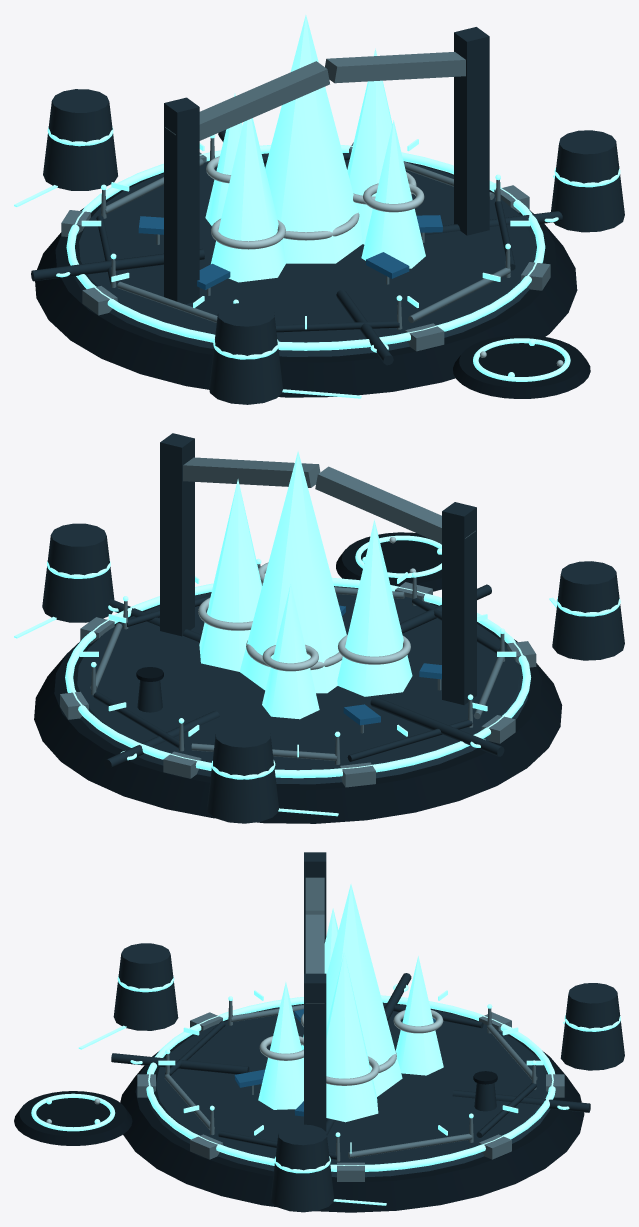
Rendered from crystalMine-stage2.glb.
3 renders of one model, top to bottom at view 1: azimuth 30°, elevation 25°; view 2: azimuth 150°, elevation 25°; view 3: azimuth 270°, elevation 25°, orthographic. The views are drawn at different scales.
Visible parts, largest first — view 1: upper-deck, armored-foundation, gantry-tower (×2), crystal-spire-0, gantry-arm (×2), crystal-spire-1, refinery-annex-2, refinery-annex-1, refinery-annex-0, landing-pad, perimeter-light, crystal-spire-4 (+18 smaller); view 2: upper-deck, armored-foundation, gantry-tower (×2), crystal-spire-0, crystal-spire-1, gantry-arm (×2), crystal-spire-2, refinery-annex-1, refinery-annex-2, refinery-annex-0, perimeter-light, crystal-spire-3 (+17 smaller); view 3: upper-deck, armored-foundation, crystal-spire-0, crystal-spire-2, perimeter-light, refinery-annex-1, refinery-annex-2, refinery-annex-0, gantry-tower (×2), landing-pad, crystal-spire-4, crystal-spire-3 (+12 smaller).
Boxes of the visible parts, x1=… form: upper-deck: x1=69, y1=153, x2=543, y2=356; armored-foundation: x1=35, y1=153, x2=577, y2=397; gantry-tower (×2): x1=164, y1=27, x2=489, y2=304; crystal-spire-0: x1=265, y1=15, x2=362, y2=263; gantry-arm (×2): x1=165, y1=52, x2=465, y2=140; crystal-spire-1: x1=211, y1=118, x2=285, y2=282; refinery-annex-2: x1=43, y1=89, x2=117, y2=190; refinery-annex-1: x1=209, y1=302, x2=282, y2=404; refinery-annex-0: x1=551, y1=130, x2=624, y2=232; landing-pad: x1=453, y1=335, x2=590, y2=398; perimeter-light: x1=66, y1=145, x2=545, y2=350; crystal-spire-4: x1=361, y1=120, x2=425, y2=268; upper-deck: x1=67, y1=586, x2=527, y2=784; armored-foundation: x1=34, y1=586, x2=562, y2=823; gantry-tower (×2): x1=160, y1=433, x2=476, y2=704; crystal-spire-0: x1=239, y1=451, x2=346, y2=693; crystal-spire-1: x1=337, y1=519, x2=412, y2=696; gantry-arm (×2): x1=183, y1=457, x2=475, y2=543; crystal-spire-2: x1=199, y1=479, x2=262, y2=671; refinery-annex-1: x1=552, y1=561, x2=624, y2=660; refinery-annex-2: x1=207, y1=724, x2=278, y2=823; refinery-annex-0: x1=42, y1=523, x2=114, y2=622; perimeter-light: x1=65, y1=577, x2=531, y2=778; crystal-spire-3: x1=262, y1=583, x2=319, y2=719; upper-deck: x1=148, y1=1003, x2=553, y2=1177; armored-foundation: x1=120, y1=1002, x2=584, y2=1212; crystal-spire-0: x1=326, y1=884, x2=402, y2=1096; crystal-spire-2: x1=326, y1=952, x2=378, y2=1122; perimeter-light: x1=146, y1=995, x2=555, y2=1171; refinery-annex-1: x1=113, y1=943, x2=178, y2=1030; refinery-annex-2: x1=560, y1=983, x2=624, y2=1070; refinery-annex-0: x1=271, y1=1124, x2=334, y2=1212; gantry-tower (×2): x1=304, y1=852, x2=326, y2=1131; landing-pad: x1=14, y1=1091, x2=132, y2=1145; crystal-spire-4: x1=258, y1=982, x2=303, y2=1109; crystal-spire-3: x1=396, y1=956, x2=443, y2=1075.
Size of the model in its own units: 10.84 by 5.28 by 12.65.
